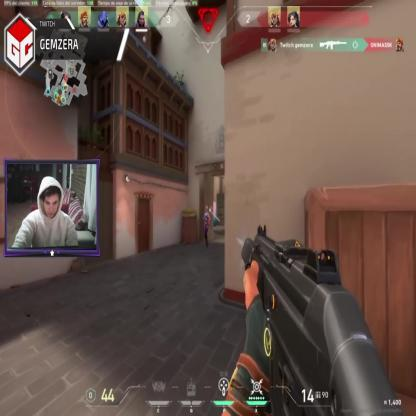enemy: (202, 204, 210, 246)
enemy_head: (205, 206, 208, 213)
